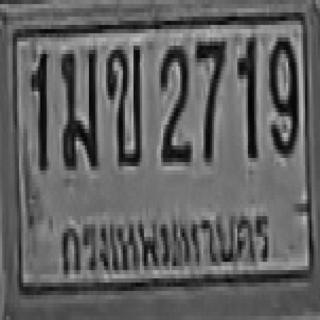A02: (104, 42, 140, 162)
A33: (59, 46, 95, 166)
N01: (235, 35, 254, 156), (30, 48, 47, 168)
N02: (159, 42, 189, 162)
N07: (193, 38, 225, 158)
N09: (267, 33, 297, 154)
P04: (53, 207, 280, 285)
